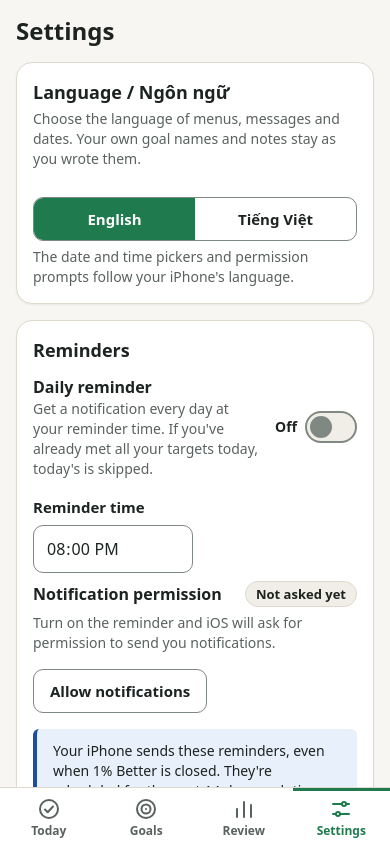
Test: Reminders card on iOS with scheduled notifications (M15-AC5) › turning the switch on with permission default asks exactly once, and once granted the 14-day schedule is written
Expected: the heading "Settings" is shown, [16, 16, 114, 46]
What coordinates should you click on to do the following:
click the switch labelled "Daily reminder"
I would click on:
 (331, 427)
Its box is [305, 411, 357, 443].
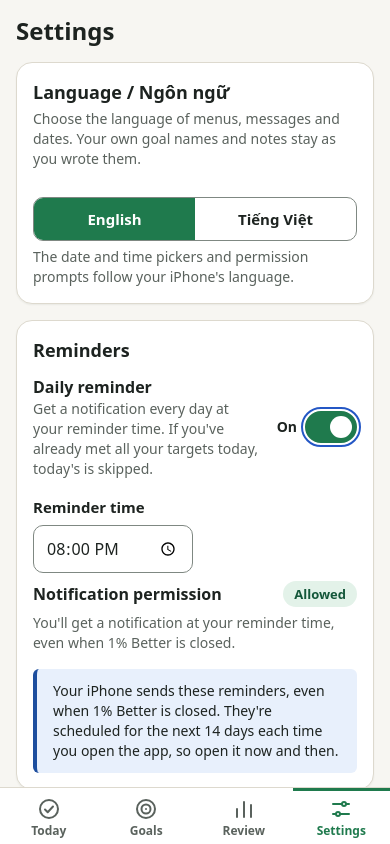
Expected: the switch labelled "Daily reminder" is checked, [305, 411, 357, 443]
Expected: the text "Allowed" is shown, [283, 581, 357, 607]
Expected: the text with test id "permission-desc" reads "You'll get a notification at your reminder time, even when 1% Better is closed.", [33, 613, 335, 652]
